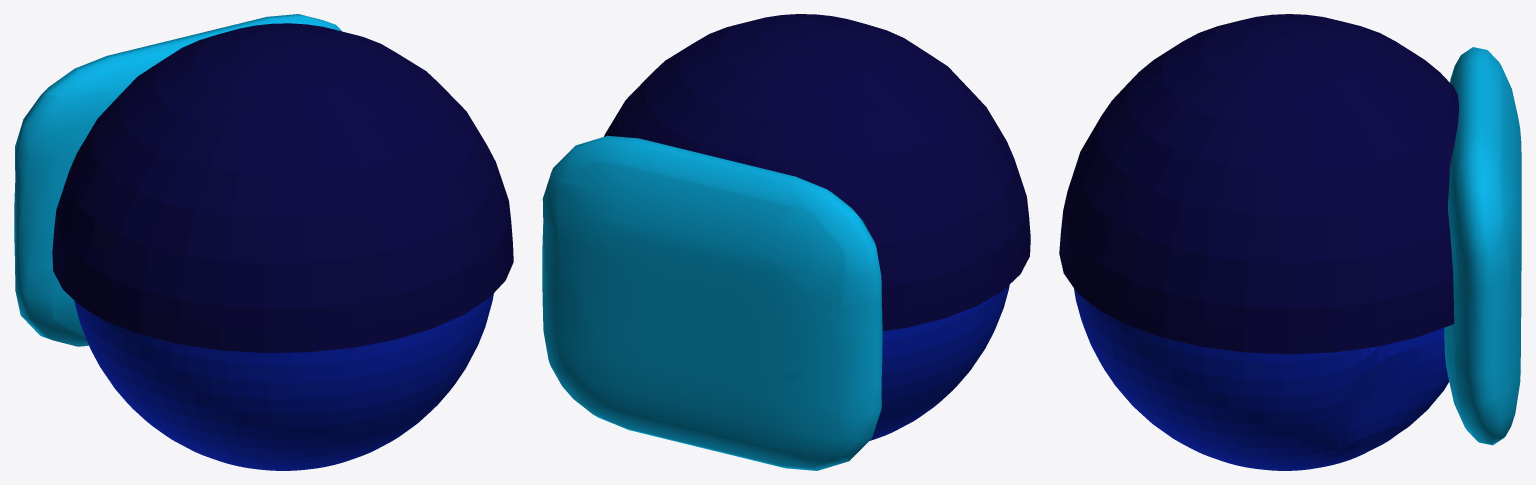
Rendered from helmet.blend1.fbx.
The picture shows the model from 3 angles, left to right: view 1: azimuth 30°, elevation 25°; view 2: azimuth 150°, elevation 25°; view 3: azimuth 270°, elevation 25°; orthographic projection. The views are drawn at different scales.
Parts seen in each view (by area): view 1: Sphere.001, Sphere, Mball; view 2: Mball, Sphere.001, Sphere; view 3: Sphere.001, Sphere, Mball.
Part boxes in pixels (<box>): Sphere.001: <box>52,23,513,352</box>; Sphere: <box>74,293,493,470</box>; Mball: <box>14,14,341,346</box>; Mball: <box>542,135,882,470</box>; Sphere.001: <box>604,14,1030,331</box>; Sphere: <box>870,285,1009,440</box>; Sphere.001: <box>1059,14,1459,354</box>; Sphere: <box>1074,288,1448,470</box>; Mball: <box>1444,47,1521,445</box>.
Bounding box in the file's own units: 216 × 208 × 209.
